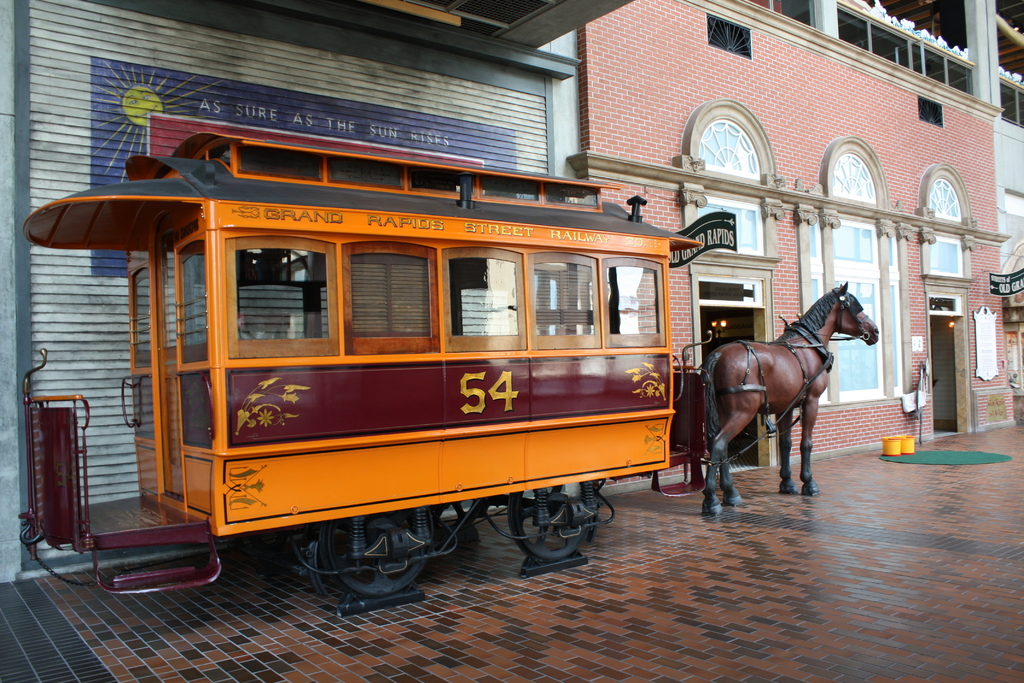horse: (700, 280, 879, 516)
